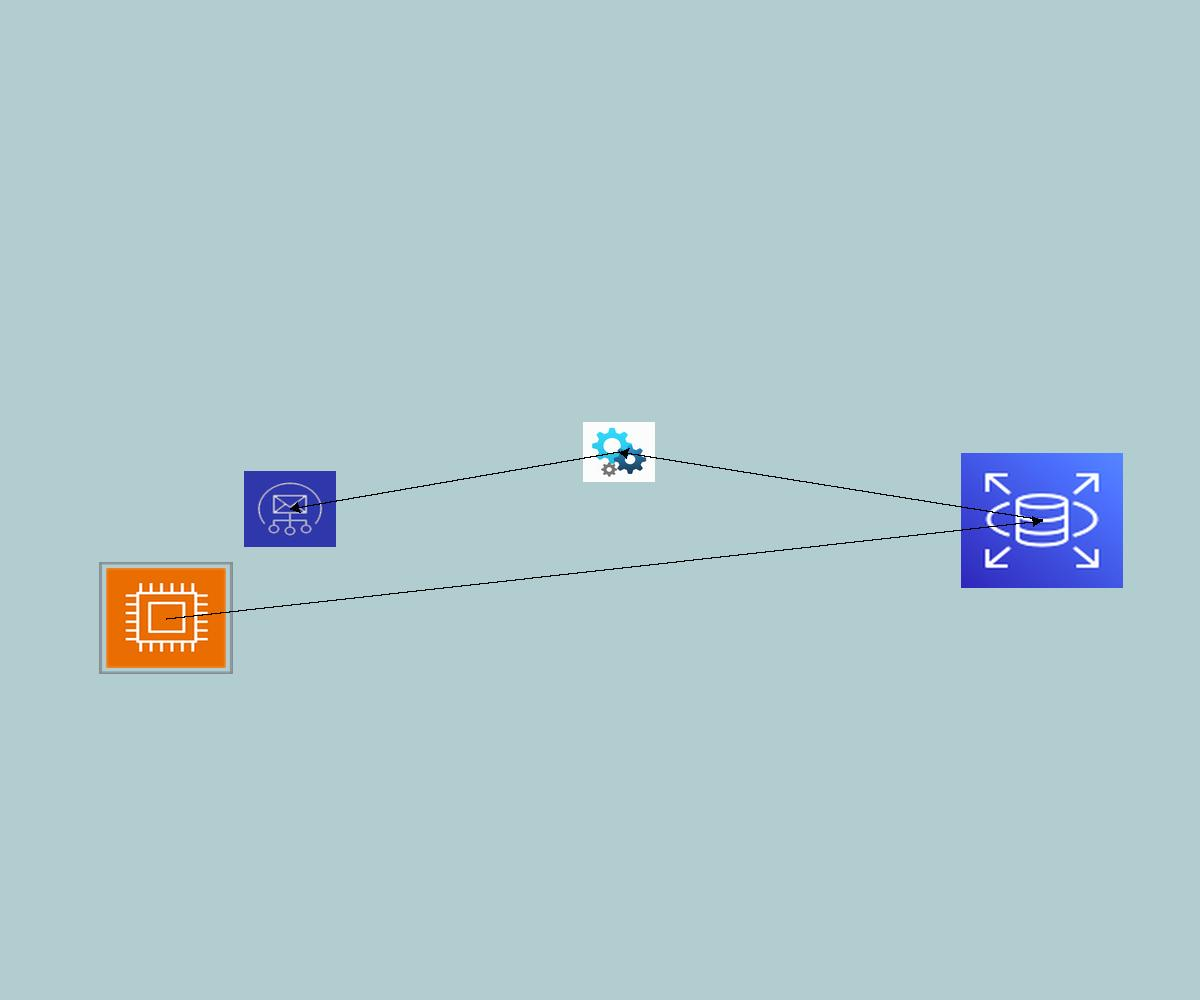AWS-Category_Compute: (99, 562, 233, 674)
AWS-RDS: (961, 453, 1123, 588)
AWS-Simple-Email-Service: (244, 471, 336, 547)
Azure_api: (583, 422, 655, 482)
